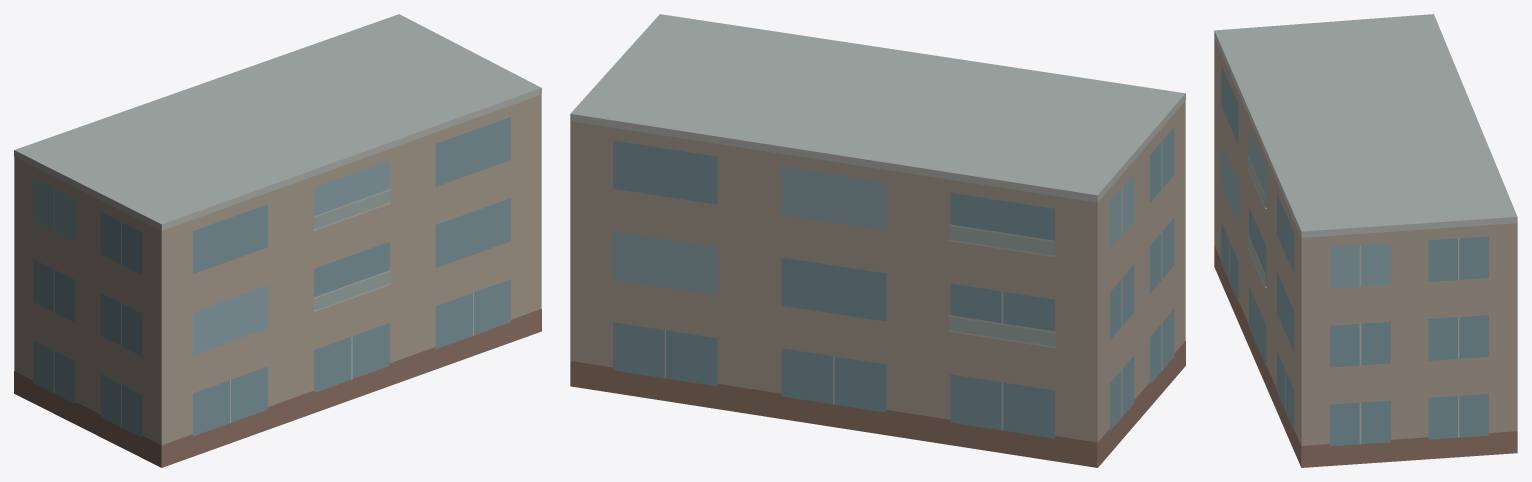
File: survey-upis-32916348.glb
The picture shows the model from 3 angles, left to right: view 1: azimuth 30°, elevation 25°; view 2: azimuth 150°, elevation 25°; view 3: azimuth 270°, elevation 25°; orthographic projection. The views are drawn at different scales.
Parts seen in each view (by area): view 1: survey-upis-32916348.tmp; view 2: survey-upis-32916348.tmp; view 3: survey-upis-32916348.tmp.
Part boxes in pixels (left/top/right/bottom): survey-upis-32916348.tmp: left=14, top=14, right=541, bottom=467; survey-upis-32916348.tmp: left=570, top=14, right=1185, bottom=467; survey-upis-32916348.tmp: left=1214, top=14, right=1517, bottom=467.
Bounding box in the file's own units: 18.08 × 9.15 × 10.65.
